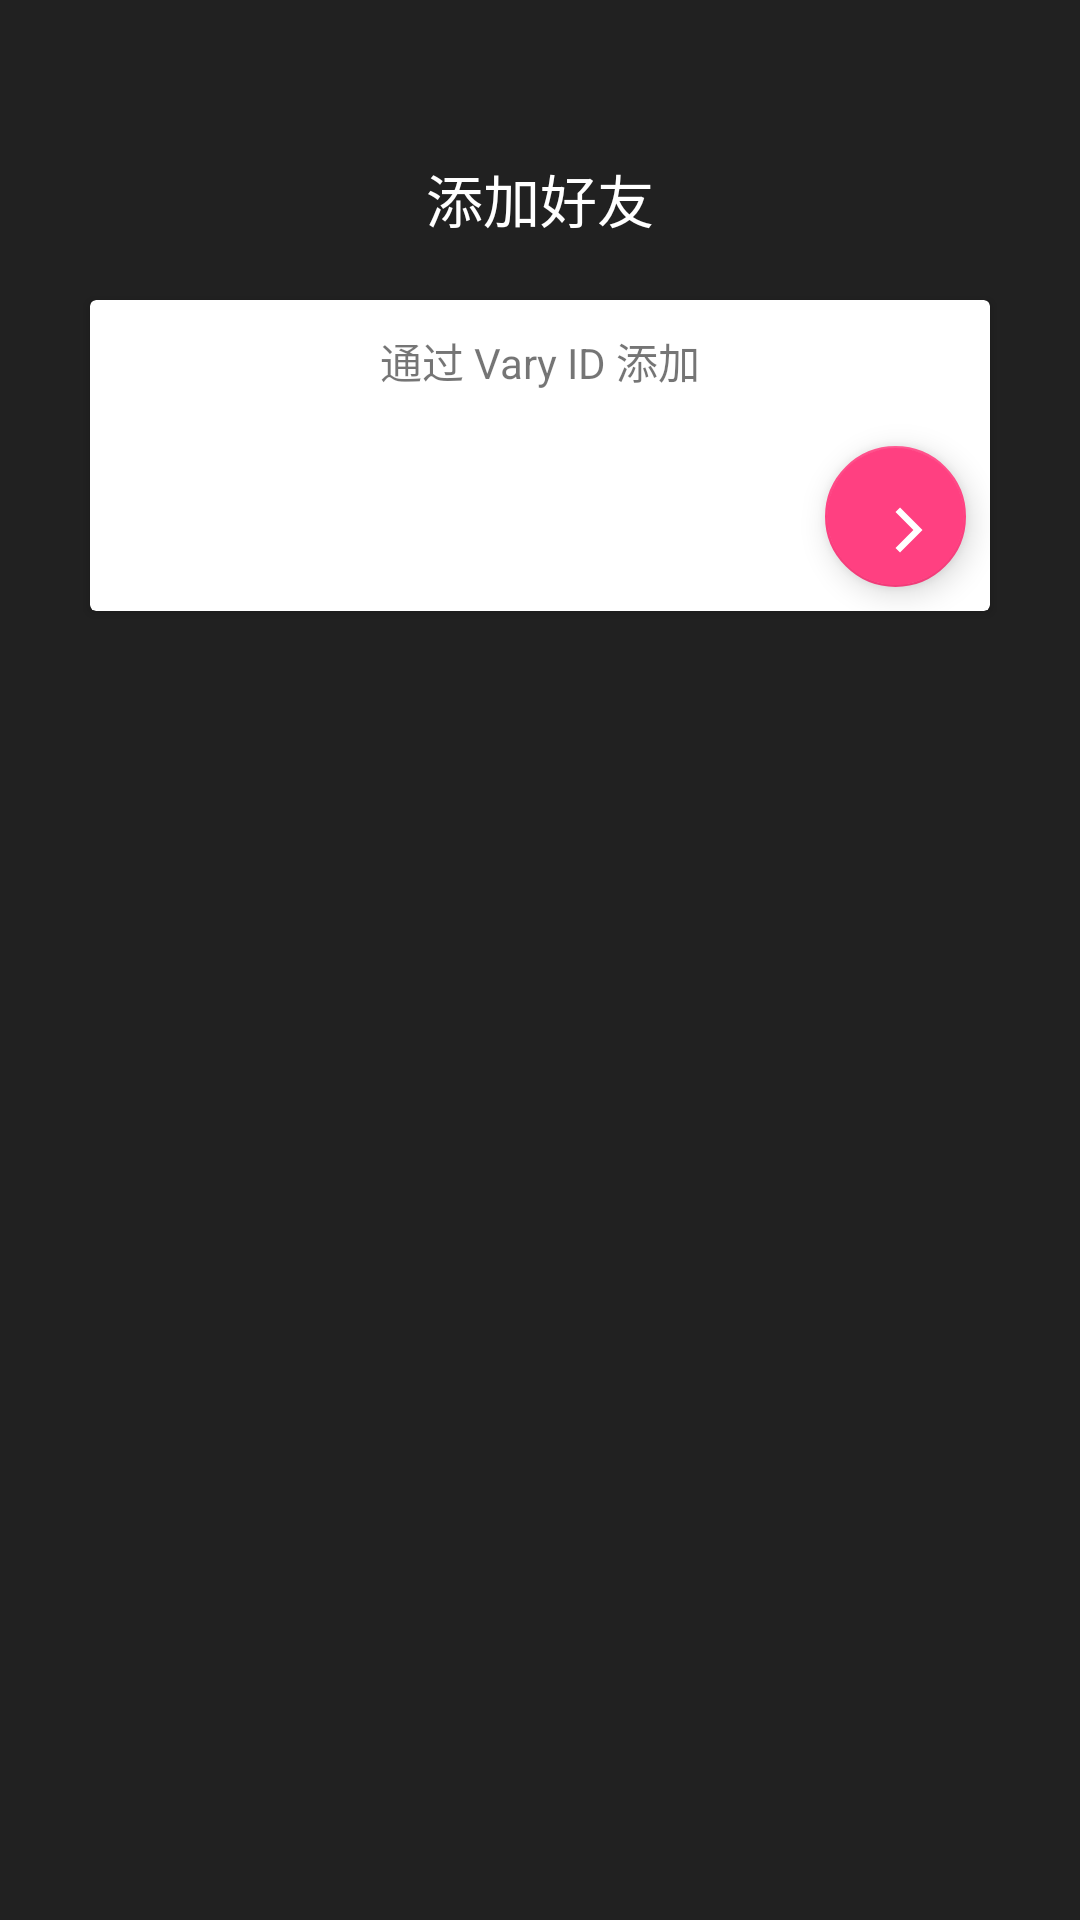

Where to tap for icons on this 1080×1920 app screen, as point (x, y):
arrow: point (895, 516)
